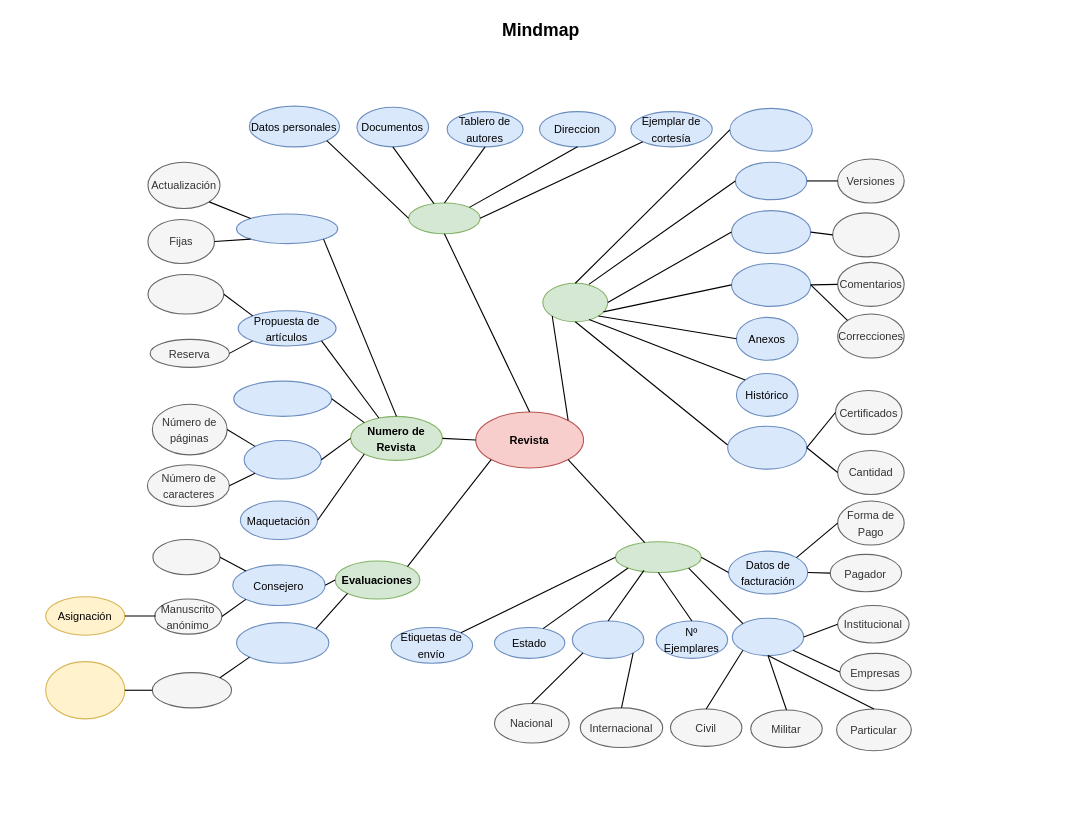
Some shapes in this 1081 by 825 pixel diagram are drawn without their labels. Here are the shapes that lost their labels. From the top down, the box of each, then its label:
(729, 107, 812, 151): Formato de documento
(734, 161, 807, 200): Manuscrito
(235, 213, 338, 244): Secciones
(408, 202, 480, 234): Autores
(730, 210, 811, 254): Ciclo editorial
(832, 212, 899, 257): Estados
(147, 273, 224, 314): Aceptados
(542, 282, 608, 322): Artículos
(730, 262, 811, 306): Observaciones Editoriales
(233, 380, 332, 416): Planificación
(243, 439, 321, 479): Extensión
(727, 425, 807, 469): Remuneración
(152, 538, 220, 575): Especialidad
(614, 541, 701, 573): Suscripciones
(235, 622, 329, 663): Nº de Evaluaciones
(571, 620, 644, 658): Destinatario
(731, 617, 804, 656): Suscriptor
(45, 661, 125, 719): Parámetros de evaluación
(151, 672, 232, 708): Informe
